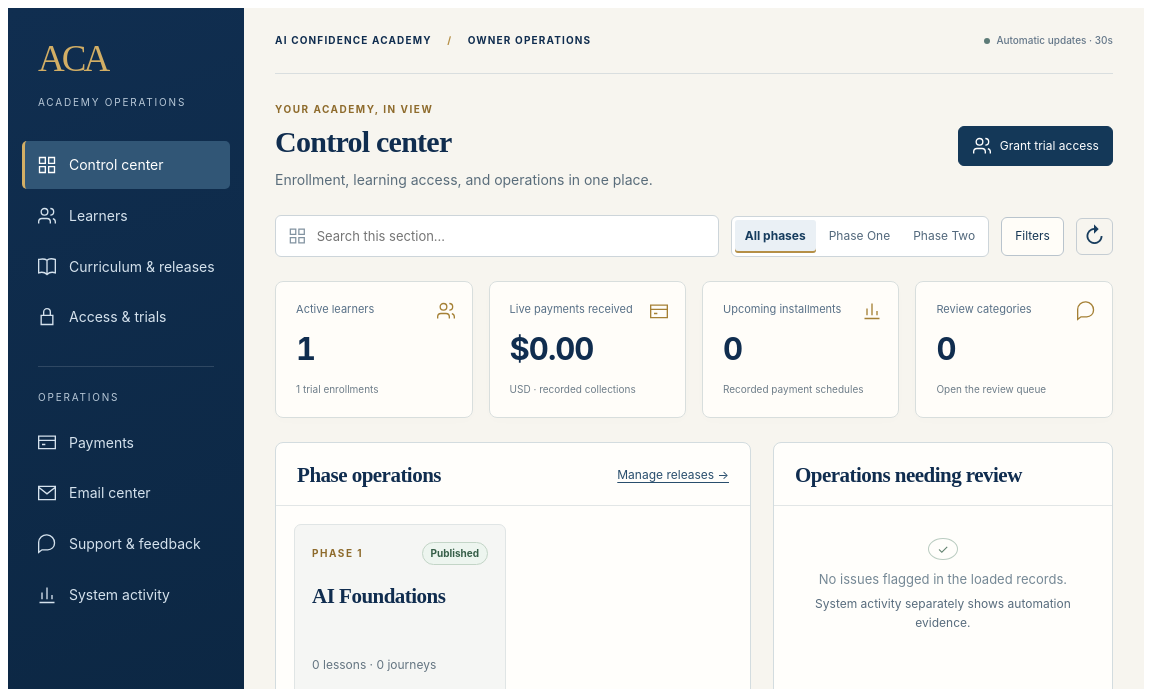
Test case: sends a previously saved invitation without requiring its raw code or recreating the grant
Check: the heading "Phase operations" is shown, box [297, 462, 441, 489]
Click the button "Access & trials".
click(126, 317)  # box [22, 293, 230, 341]
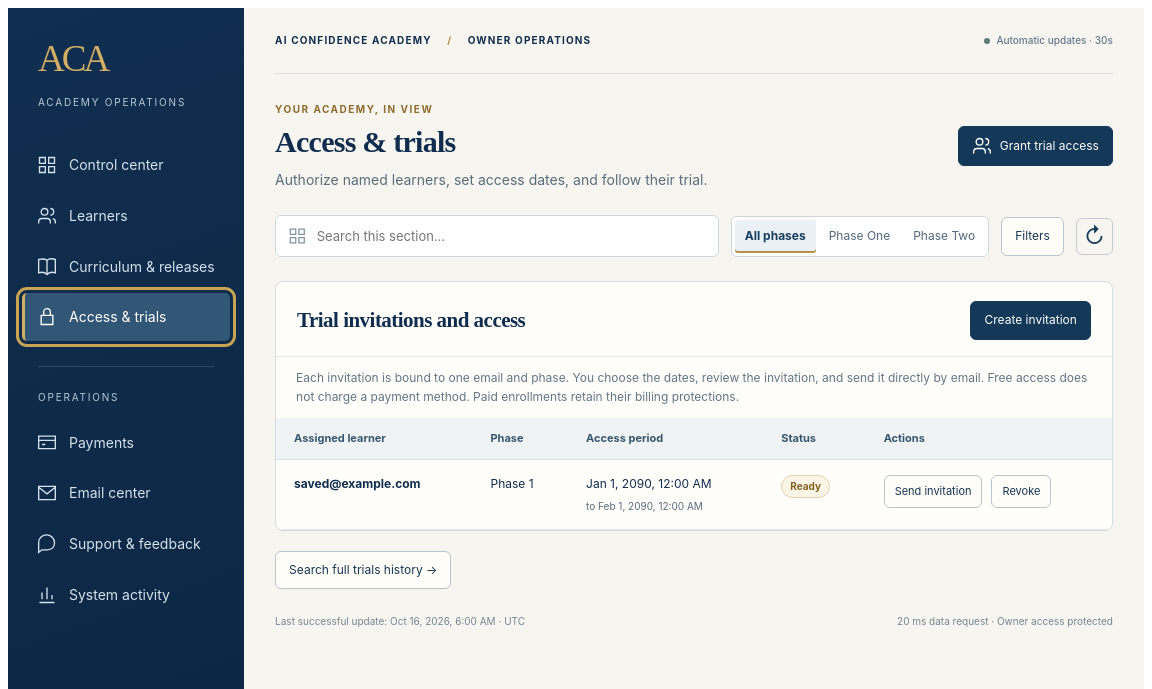
Click the button "Send invitation".
click(933, 492)  # box [884, 475, 982, 508]
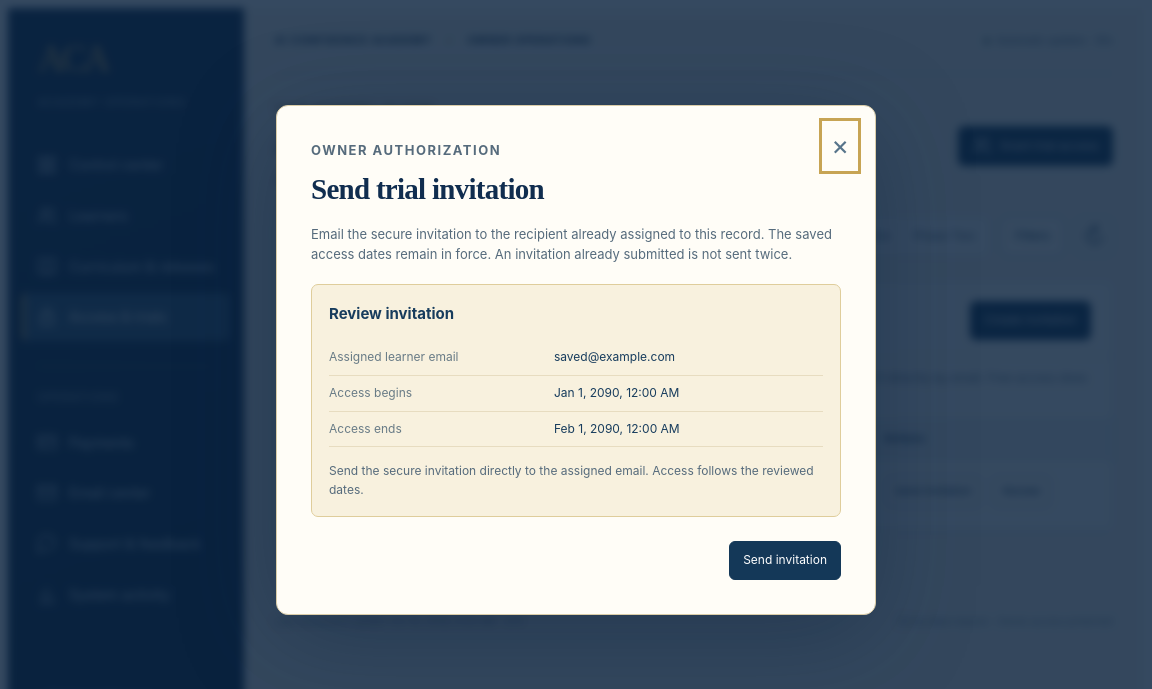
Check: the text "saved@example.com" is shown, box [554, 349, 675, 364]
Click the button "Send invitation".
click(785, 561)  # box [729, 541, 841, 580]
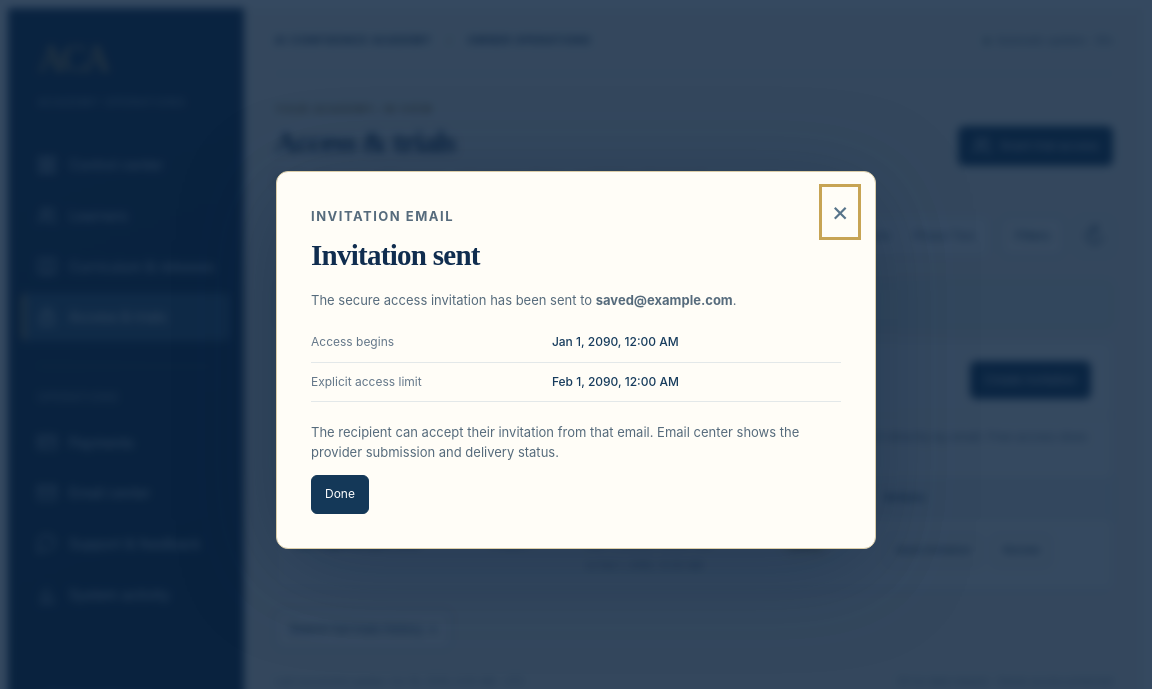
Check: the heading "Invitation sent" is shown, box [311, 239, 480, 271]
